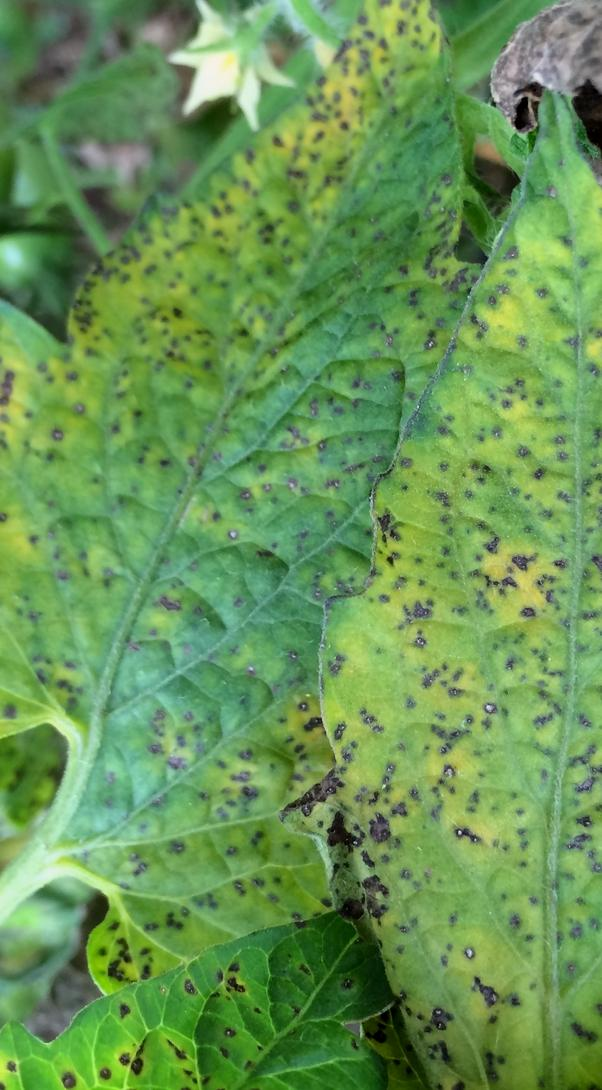Tomato Septoria leaf spot: (0, 0, 499, 948), (316, 53, 602, 1081)
